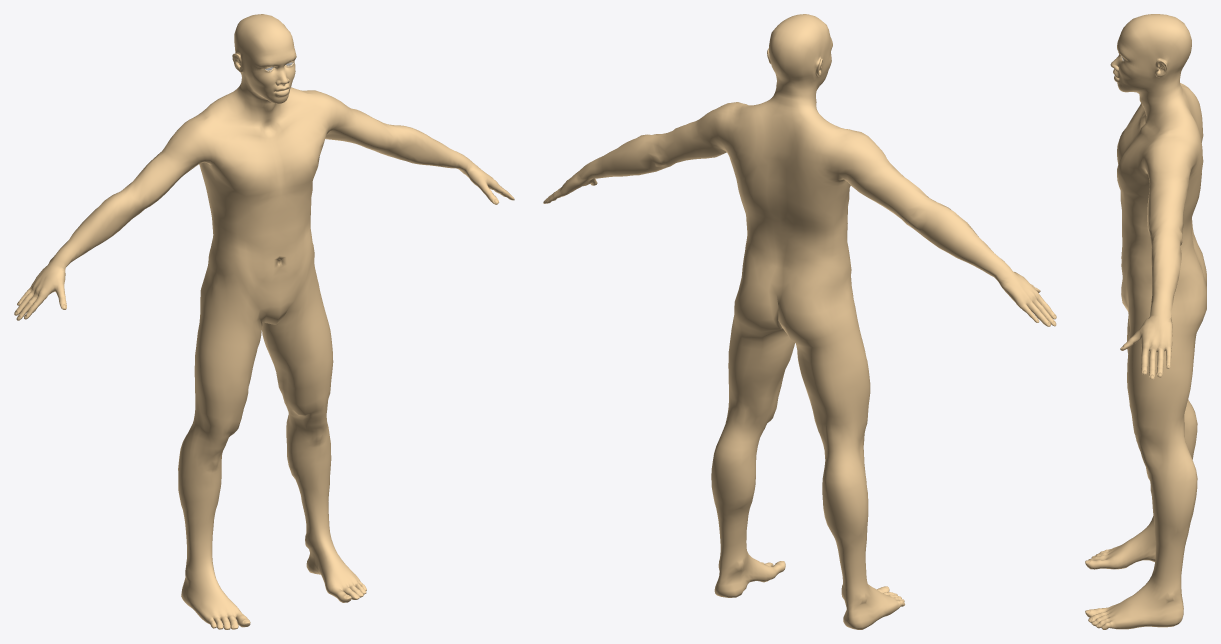
File: Karakter MC FIKS (1).fbx
3 views of the same model, side by side, from view 1: azimuth 30°, elevation 25°; view 2: azimuth 150°, elevation 25°; view 3: azimuth 270°, elevation 25° (orthographic). The views are drawn at different scales.
Parts seen in each view (by area): view 1: human_male_base03; view 2: human_male_base03; view 3: human_male_base03.
Boxes of the visible parts, box(x1,y1,x2,y2) form: human_male_base03: box(14, 14, 514, 629); human_male_base03: box(543, 14, 1056, 629); human_male_base03: box(1085, 14, 1206, 629).
Bounding box in the file's own units: 160 × 176 × 33.81.
